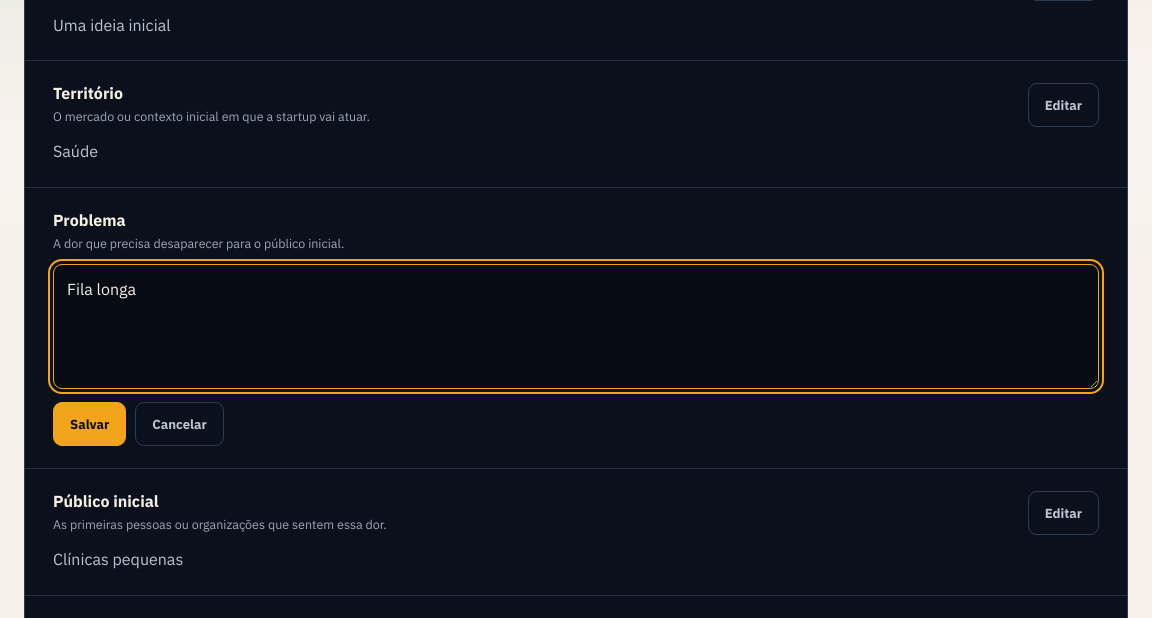
StartupJourneyScreen › keeps the edited value and reports a connection error in the map
The image size is (1152, 618).
(page scrolled)
Replace the text in the text box named "Problema" with "Fila longa em horários de pico": (576, 326) [53,264,1099,389]
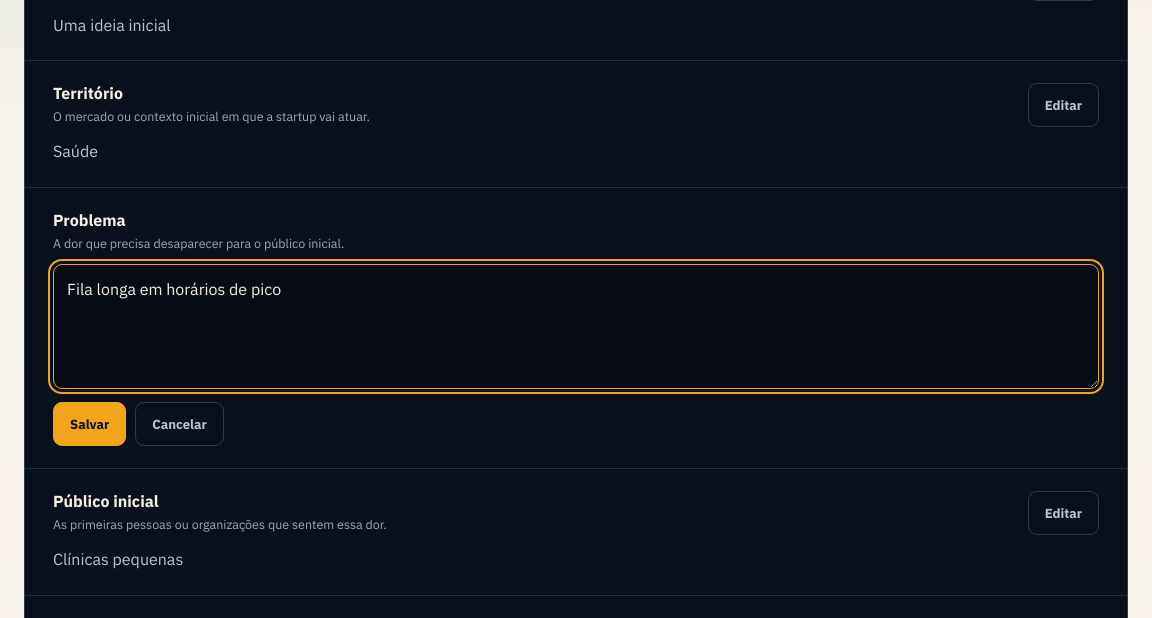
Click the button with aria-label "Salvar Problema": (90, 424) [53,402,126,446]
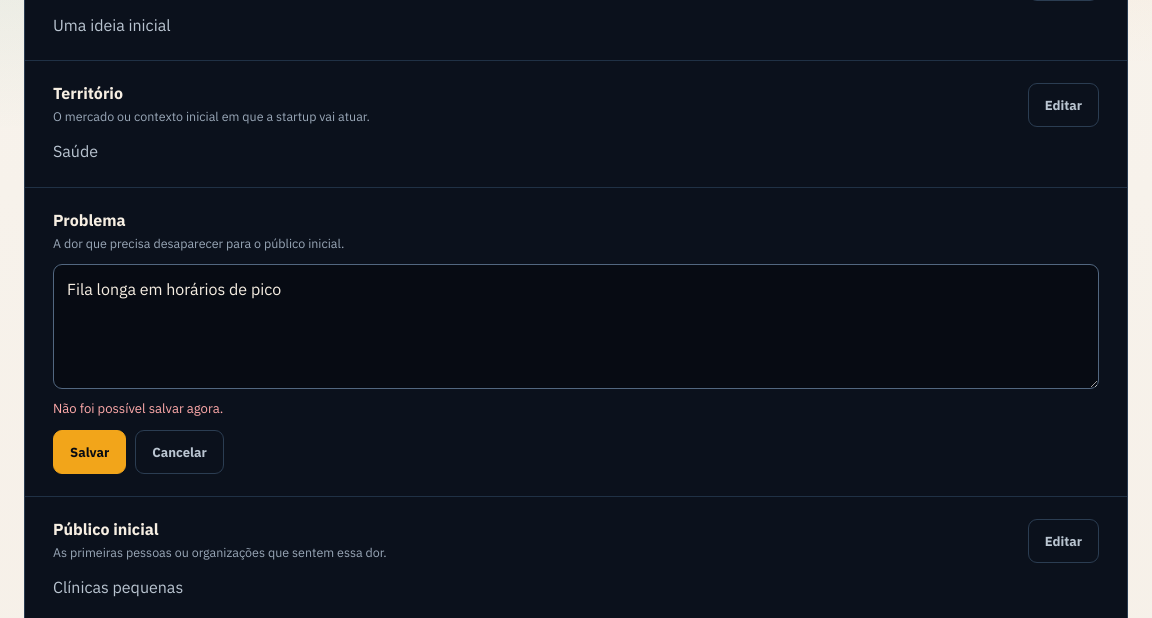
Now the message reads "Não foi possível salvar agora.", box [53,400,223,417]
